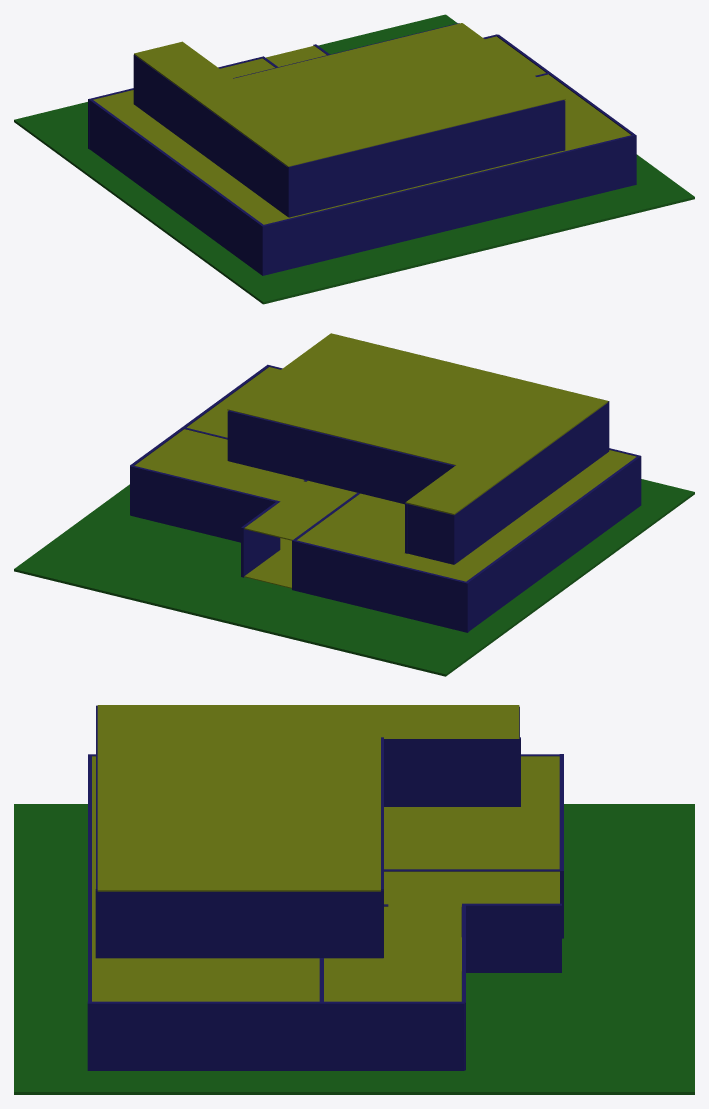
Rendered from House.obj.
3 renders of one model, top to bottom at view 1: azimuth 30°, elevation 25°; view 2: azimuth 150°, elevation 25°; view 3: azimuth 270°, elevation 25°, orthographic. The views are drawn at different scales.
Visible parts, largest first — view 1: group2 pCube43, group2 pCube1, group2 pCube12, group2 pCube40, group2 pCube33, group2 pCube7, pCube36 group2, group2 pCube19; view 2: group2 pCube1, group2 pCube43, group2 pCube33, group2 pCube34, group2 pCube11, group2 pCube7, pCube36 group2, group2 pCube17, group2 pCube44, group2 pCube2, group2 pCube32, group2 pCube19; view 3: group2 pCube1, group2 pCube43, group2 pCube33, group2 pCube19, group2 pCube39, group2 pCube35, group2 pCube2, group2 pCube12, group2 pCube3, group2 pCube11.
Boxes of the visible parts, x1,y1,x2,y2 form: group2 pCube43: (134, 23, 565, 166); group2 pCube1: (14, 14, 694, 304); group2 pCube12: (262, 134, 634, 275); group2 pCube40: (288, 100, 564, 217); group2 pCube33: (93, 36, 630, 224); group2 pCube7: (89, 99, 264, 275); pCube36 group2: (133, 55, 288, 216); group2 pCube19: (496, 34, 636, 185); group2 pCube1: (14, 479, 694, 676); group2 pCube43: (227, 333, 608, 514); group2 pCube33: (134, 367, 636, 581); group2 pCube34: (228, 410, 455, 504); group2 pCube11: (292, 539, 469, 632); group2 pCube7: (466, 455, 641, 630); pCube36 group2: (454, 402, 608, 564); group2 pCube17: (130, 465, 278, 542); group2 pCube44: (408, 504, 454, 564); group2 pCube2: (241, 501, 280, 577); group2 pCube32: (244, 538, 291, 588); group2 pCube19: (130, 364, 269, 514); group2 pCube1: (14, 804, 694, 1094); group2 pCube43: (97, 705, 519, 891); group2 pCube33: (92, 756, 559, 1001); group2 pCube19: (87, 1001, 465, 1070); group2 pCube39: (95, 889, 383, 958); group2 pCube35: (384, 737, 520, 806); group2 pCube2: (462, 903, 561, 972); group2 pCube12: (88, 755, 91, 1002); group2 pCube3: (384, 869, 563, 938); group2 pCube11: (559, 754, 563, 937).
Size of the model in its own units: 23.77 by 5.37 by 23.77.
